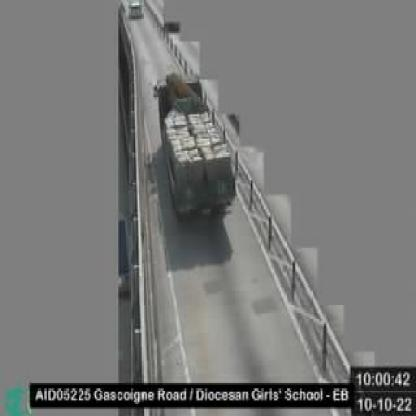Car: (129, 0, 142, 18)
Truck: (152, 74, 238, 221)
